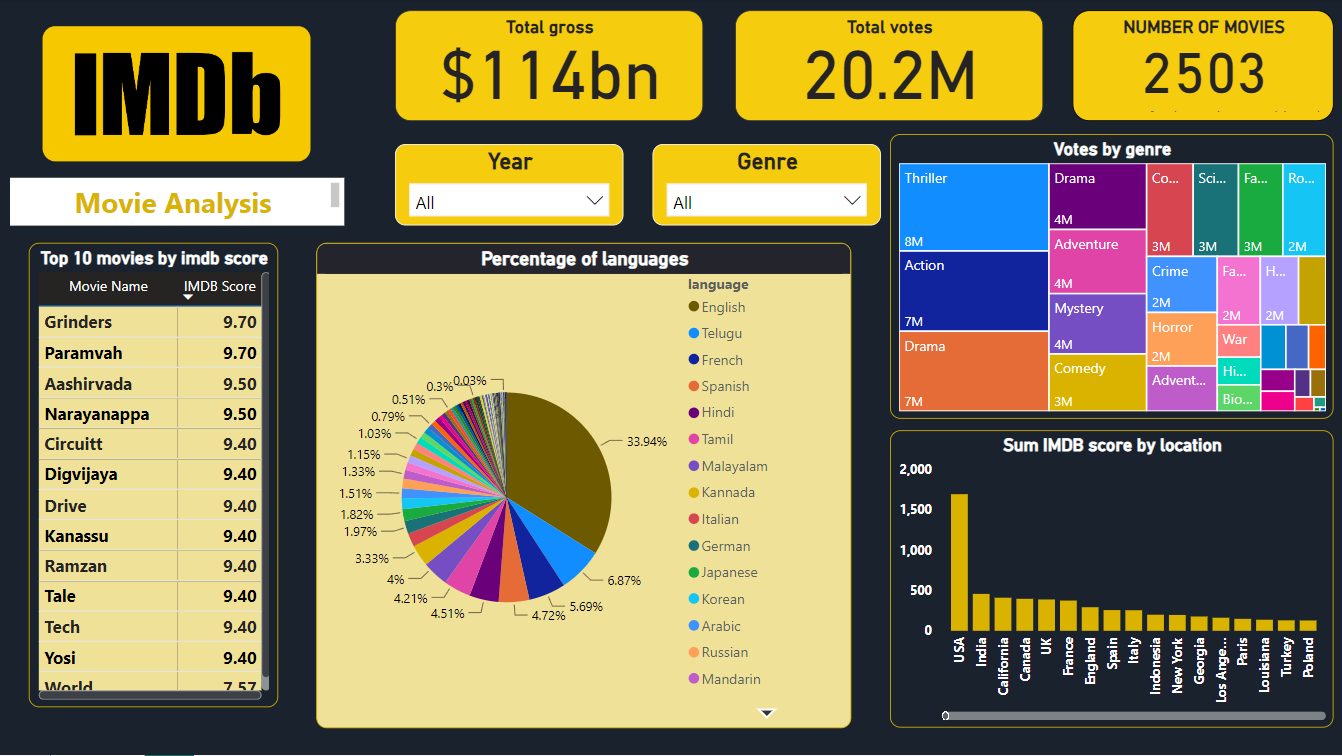

The dashboard page shown, as its layout file describes it:
{"tool":"powerbi","page":{"name":"Page 1","canvas":[1280,720],"ordinal":0},"visuals":[{"type":"card","title":"NUMBER OF MOVIES","fields":{"Values":["Query1.Count of url running total in url"]},"box":[1021,11.1,248.9,105.8],"z":0},{"type":"card","title":"Total gross","fields":{"Values":["main_table.gross_global running total in gross_global"]},"box":[375.9,11.1,293.3,105.8],"z":1000},{"type":"textbox","box":[10.1,170.3,318.5,45.4],"z":2000},{"type":"image","box":[36.3,11.1,265.1,159.2],"z":3000},{"type":"card","title":"Total votes","fields":{"Values":["main_table.vote_count running total in vote_count"]},"box":[700.5,11.1,293.3,105.8],"z":4000},{"type":"slicer","title":"Year","fields":{"Values":["main_table.release_date.Variation.Date Hierarchy.Year"]},"box":[375.9,138.1,217.7,77.6],"z":5000},{"type":"slicer","title":"Genre","fields":{"Values":["genre_explode.genre"]},"box":[620.9,138.1,217.7,77.6],"z":6000},{"type":"treemap","title":"Votes by genre","fields":{"Group":["genre_explode.genre"],"Values":["Sum(main_table.vote_count)"]},"box":[847.6,128,422.3,271.1],"z":7000},{"type":"tableEx","title":"Top 10 movies by imdb score","fields":{"Values":["main_table.name","Avg(main_table.imdb_score)"]},"box":[27.2,231.8,237.9,442.5],"z":8000},{"type":"pieChart","title":"Percentage of languages","fields":{"Category":["language_explode.language"],"Y":["CountNonNull(language_explode.language)"]},"box":[301.4,231.8,510,462.6],"z":9000},{"type":"clusteredColumnChart","title":"Sum IMDB score by location","fields":{"Category":["location_explode.locations"],"Y":["Sum(main_table.imdb_score)"]},"box":[847.6,411.2,422.3,283.2],"z":10000}]}

Visuals, with their boxes in screenshot pixels (x1, y1, x2, y2), scaled from the page's 1280x720 canvas onto the 1342x756 screenshot:
"NUMBER OF MOVIES" card: (x1=1070, y1=12, x2=1331, y2=123)
"Total gross" card: (x1=394, y1=12, x2=702, y2=123)
textbox: (x1=11, y1=179, x2=345, y2=226)
image: (x1=38, y1=12, x2=316, y2=179)
"Total votes" card: (x1=734, y1=12, x2=1042, y2=123)
"Year" slicer: (x1=394, y1=145, x2=622, y2=226)
"Genre" slicer: (x1=651, y1=145, x2=879, y2=226)
"Votes by genre" treemap: (x1=889, y1=134, x2=1331, y2=419)
"Top 10 movies by imdb score" tableEx: (x1=29, y1=243, x2=278, y2=708)
"Percentage of languages" pieChart: (x1=316, y1=243, x2=851, y2=729)
"Sum IMDB score by location" clusteredColumnChart: (x1=889, y1=432, x2=1331, y2=729)
